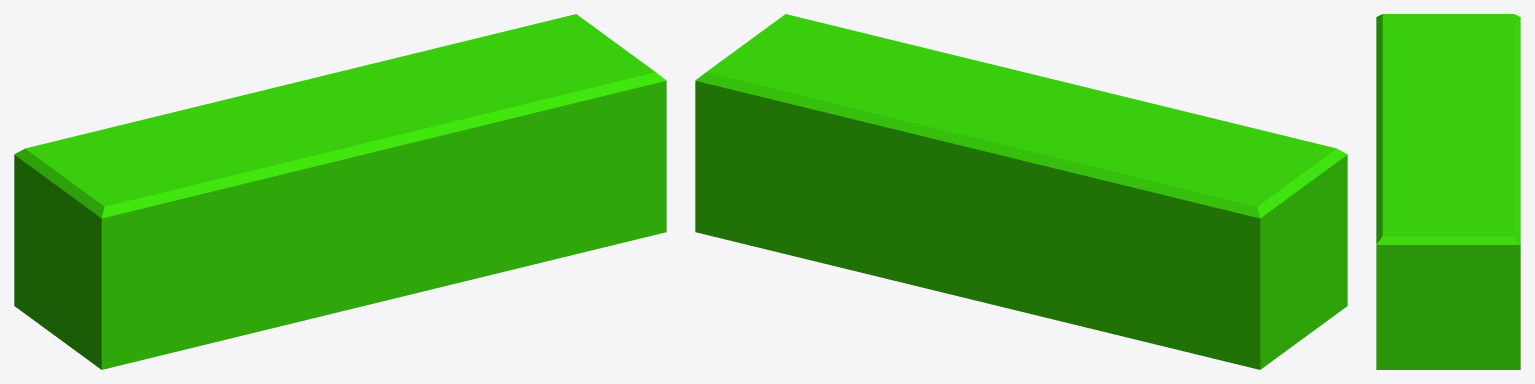
Rendered from basic_4x1.fbx.
The picture shows the model from 3 angles, left to right: view 1: azimuth 30°, elevation 25°; view 2: azimuth 150°, elevation 25°; view 3: azimuth 270°, elevation 25°; orthographic projection. The views are drawn at different scales.
Visible parts, largest first — view 1: basic_4x1; view 2: basic_4x1; view 3: basic_4x1.
Boxes of the visible parts, x1,y1,x2,y2 form: basic_4x1: (14, 14, 666, 369); basic_4x1: (695, 14, 1347, 369); basic_4x1: (1376, 14, 1520, 369).
Bounding box in the file's own units: 410 × 110 × 110.
